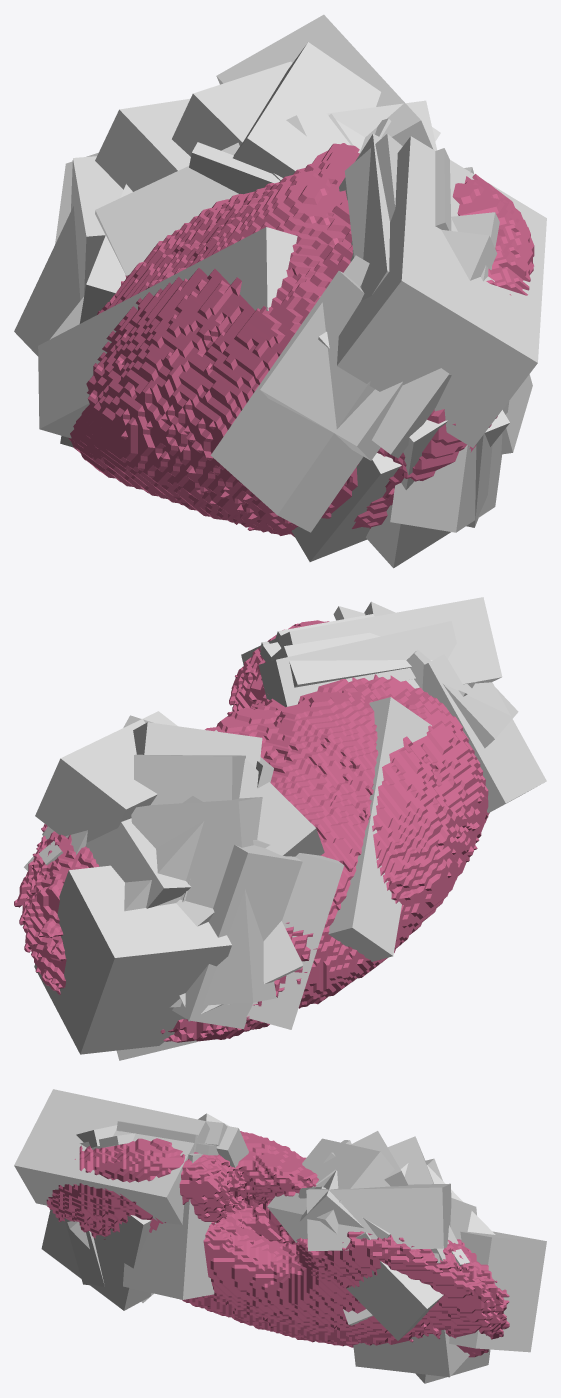
Rendered from non_hra_mapping.glb.
3 views of the same model, one above another, from view 1: azimuth 30°, elevation 25°; view 2: azimuth 150°, elevation 25°; view 3: azimuth 270°, elevation 25° (orthographic). The views are drawn at different scales.
Parts seen in each view (by area): view 1: world; view 2: world; view 3: world.
Boxes of the visible parts, x1,y1,x2,y2 form: world: [14, 14, 546, 568]; world: [14, 597, 546, 1060]; world: [14, 1089, 546, 1383].
Bounding box in the file's own units: 83.86 × 77.7 × 152.
